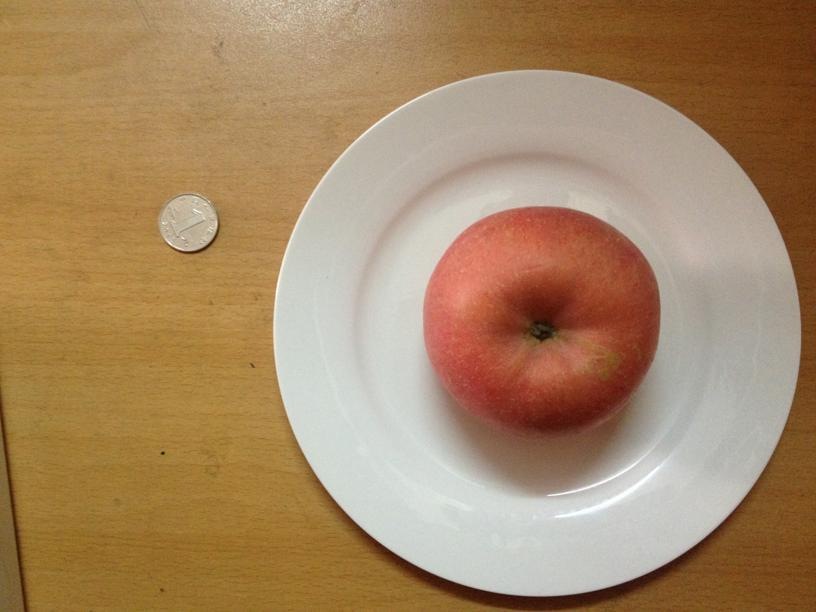apple: (420, 208, 660, 435)
coin: (156, 190, 218, 252)
